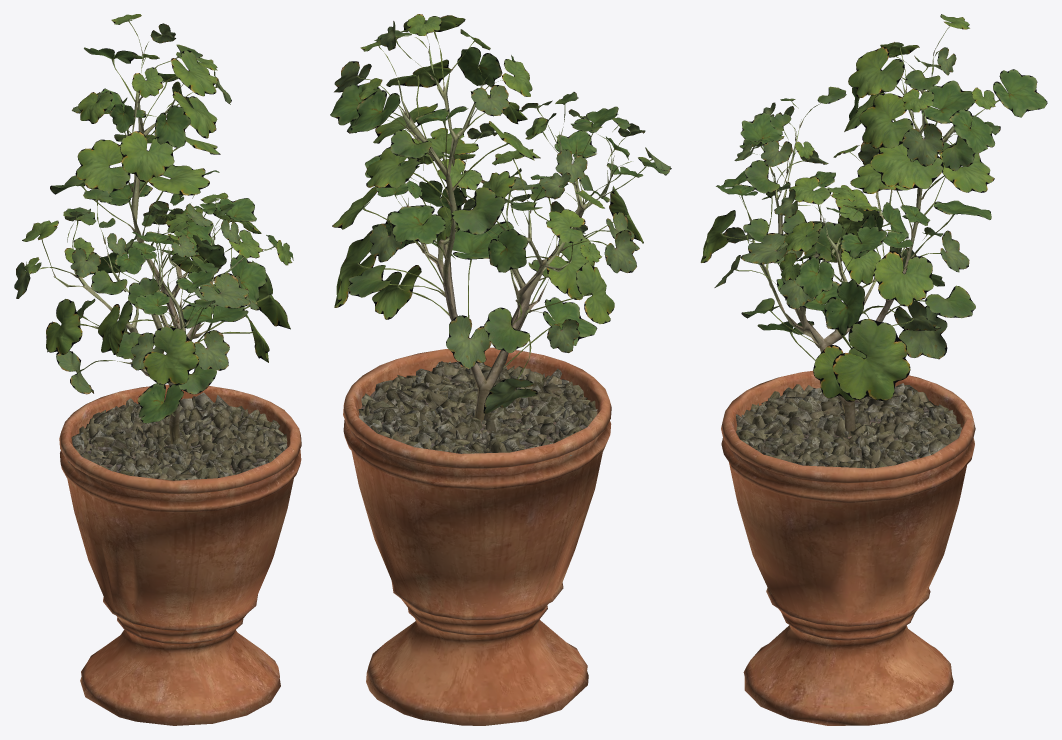
Rendered from potted_plant_01.glb.
The picture shows the model from 3 angles, left to right: view 1: azimuth 30°, elevation 25°; view 2: azimuth 150°, elevation 25°; view 3: azimuth 270°, elevation 25°; orthographic projection. The views are drawn at different scales.
Parts seen in each view (by area): view 1: potted_plant_01_stem, potted_plant_01_leaves; view 2: potted_plant_01_stem, potted_plant_01_leaves; view 3: potted_plant_01_stem, potted_plant_01_leaves.
Part boxes in pixels (box(x1,y1,x2,y2)): potted_plant_01_stem: box(54, 55, 301, 725); potted_plant_01_leaves: box(14, 14, 293, 423); potted_plant_01_stem: box(343, 48, 612, 725); potted_plant_01_leaves: box(330, 14, 671, 414); potted_plant_01_stem: box(721, 56, 975, 725); potted_plant_01_leaves: box(700, 14, 1047, 401).
Size of the model in its own units: 0.5871 by 1.34 by 0.6336.
Materials: 2 (2 with a texture image).
